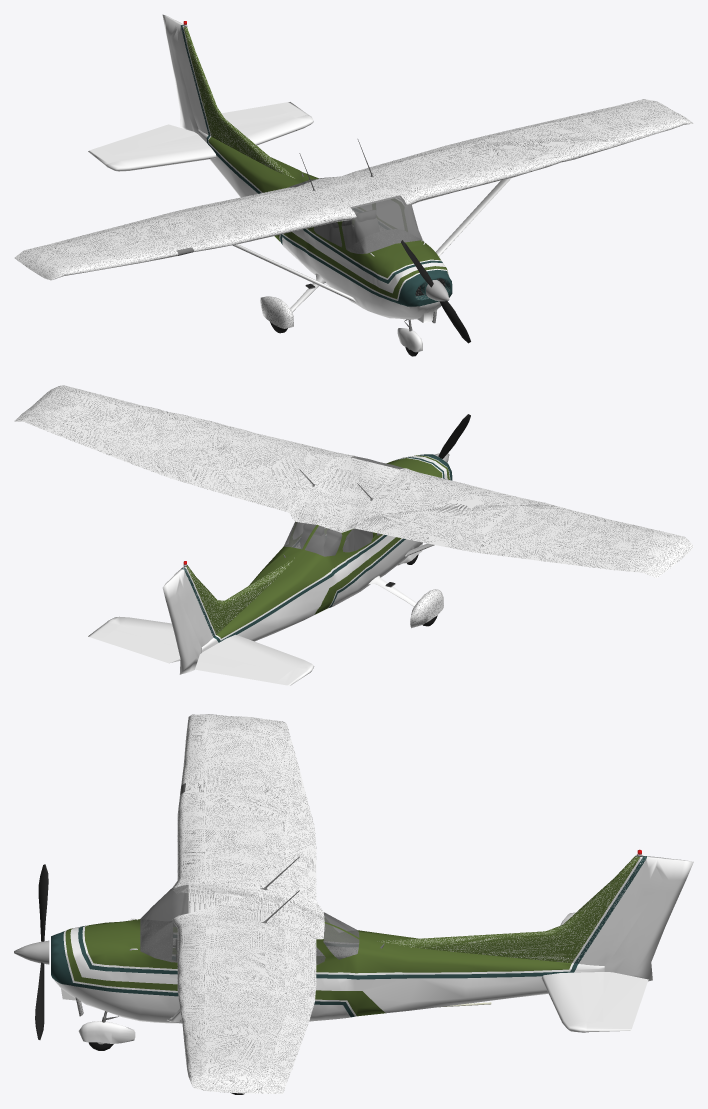
The picture shows the model from 3 angles, top to bottom: view 1: azimuth 30°, elevation 25°; view 2: azimuth 150°, elevation 25°; view 3: azimuth 270°, elevation 25°; orthographic projection. The views are drawn at different scales.
Visible parts, largest first — view 1: group_5 (×7), group_2 (×2), group_4, group_9, group_3, group_0 (×2), group_18, Group_15, group_15, group_10; view 2: group_5 (×7), group_2 (×2), group_4, group_3, Group_15, group_6, group_7, group_11; view 3: group_5 (×8), group_2 (×2), group_3, group_9, group_1 (×3), group_18, group_0, group_7.
Boxes of the visible parts, box(x1,y1,x2,y2) form: group_5 (×7): box(14, 99, 693, 319); group_2 (×2): box(162, 14, 295, 178); group_4: box(88, 124, 216, 171); group_9: box(341, 195, 422, 253); group_3: box(221, 102, 313, 145); group_0 (×2): box(232, 178, 511, 302); group_18: box(347, 229, 420, 253); Group_15: box(260, 296, 293, 328); group_15: box(354, 210, 379, 242); group_10: box(376, 200, 403, 229); group_5 (×7): box(14, 385, 693, 652); group_2 (×2): box(162, 557, 295, 674); group_4: box(195, 634, 314, 685); group_3: box(88, 616, 180, 663); Group_15: box(410, 589, 443, 628); group_6: box(305, 525, 342, 556); group_7: box(283, 522, 316, 549); group_11: box(342, 528, 372, 552); group_5 (×8): box(51, 714, 604, 1094); group_2 (×2): box(376, 855, 693, 981); group_3: box(541, 972, 648, 1032); group_9: box(140, 884, 188, 962); group_1 (×3): box(14, 864, 49, 1039); group_18: box(140, 919, 176, 962); group_0: box(78, 1021, 135, 1043); group_7: box(323, 923, 359, 959).
Size of the model in its own units: 434 by 334 by 109.
